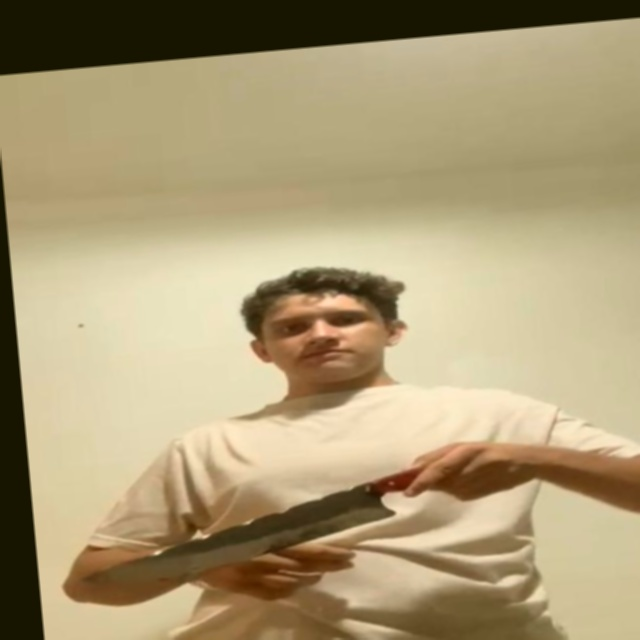Sharp-Object: (82, 484, 406, 586)
